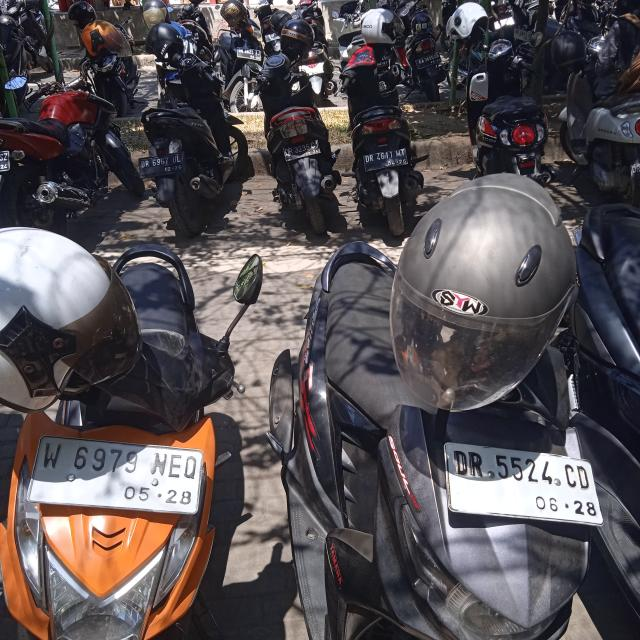plate: (442, 441, 602, 528), (27, 437, 205, 511), (137, 152, 185, 180), (363, 148, 409, 173), (283, 138, 321, 163)
